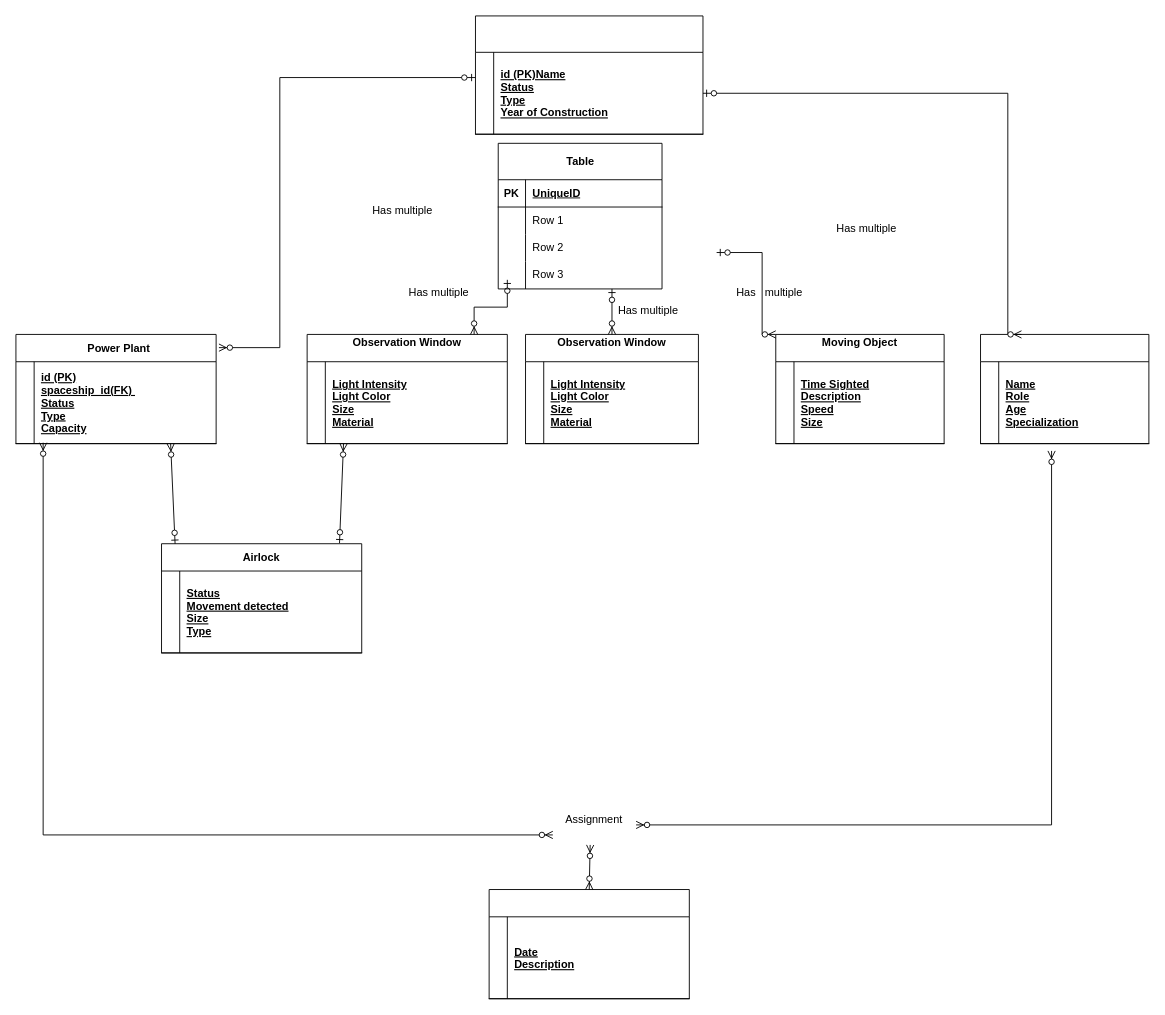
Image size: 1165x1015. Some labels were removed from this diagram. The box of each missing label's shape, as (x1, y1, x2, y2) in pixels:
Crew Mem: (980, 334, 1149, 444)
Maintenance Assignment: (488, 889, 689, 999)
Spaceship: (475, 15, 703, 134)
